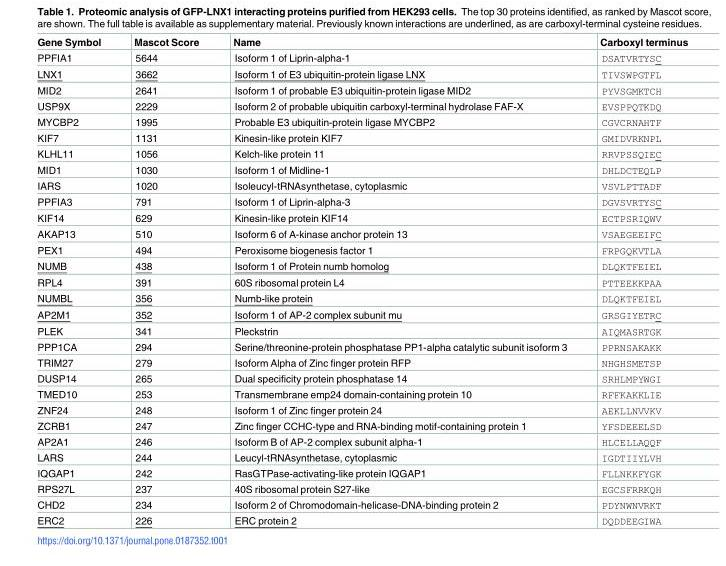table: (36, 37, 687, 526)
table column: (215, 37, 582, 526), (582, 37, 687, 526), (116, 37, 215, 526), (36, 37, 116, 526)
table column header: (36, 37, 687, 49)
table row: (36, 49, 687, 66), (36, 306, 687, 323), (36, 66, 687, 82), (36, 82, 687, 98), (36, 98, 687, 114), (36, 114, 687, 130), (36, 130, 687, 146), (36, 146, 687, 162), (36, 162, 687, 178), (36, 178, 687, 194), (36, 194, 687, 210), (36, 210, 687, 226), (36, 226, 687, 242), (36, 242, 687, 258), (36, 258, 687, 274), (36, 274, 687, 290), (36, 290, 687, 306), (36, 323, 687, 339), (36, 339, 687, 355), (36, 370, 687, 386), (36, 386, 687, 402), (36, 402, 687, 418), (36, 418, 687, 434), (36, 449, 687, 465), (36, 465, 687, 481), (36, 481, 687, 497), (36, 497, 687, 513), (36, 355, 687, 370), (36, 434, 687, 449), (36, 513, 687, 526), (36, 37, 687, 49)
